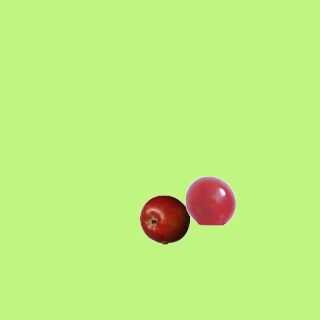Apple Braeburn: (139, 194, 189, 244)
Redcurrant: (185, 175, 235, 225)
